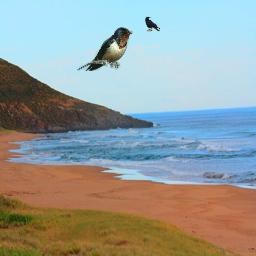Crow: (145, 16, 160, 32)
Swallow: (77, 27, 133, 71)
